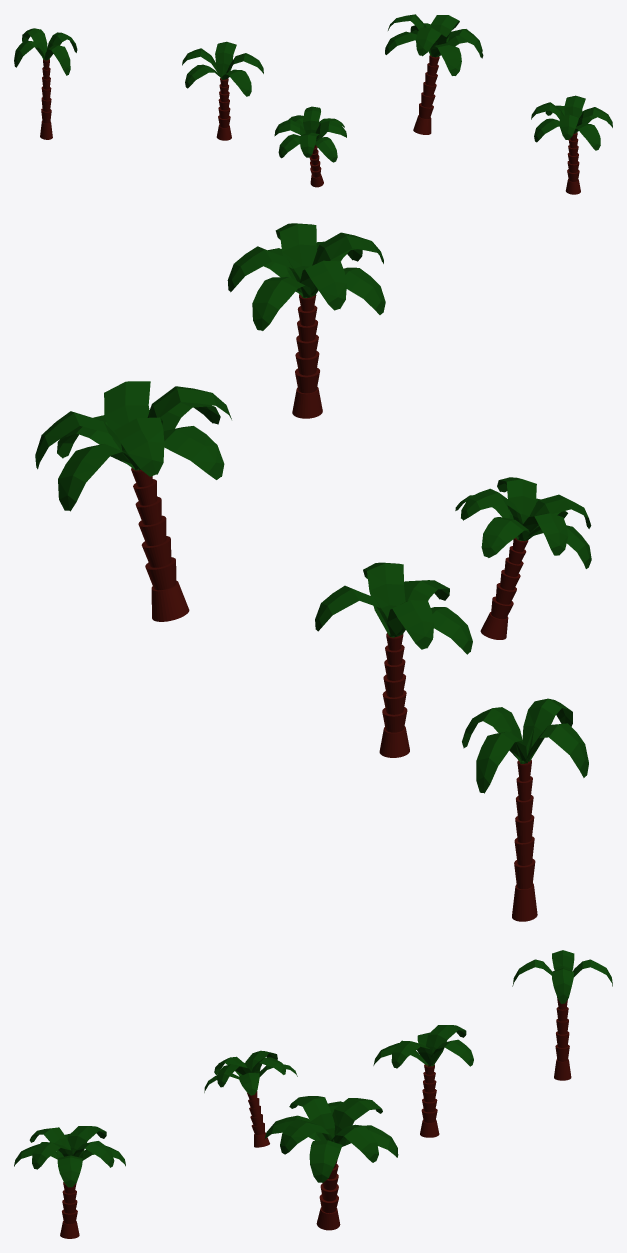
File: trees.obj
3 renders of one model, top to bottom at view 1: azimuth 30°, elevation 25°; view 2: azimuth 150°, elevation 25°; view 3: azimuth 270°, elevation 25°, orthographic. The views are drawn at different scales.
Parts seen in each view (by area): view 1: Plane.006, Plane.026, Plane.036, Plane.028, Plane.030, Plane.002, Plane.025, Plane.011, Plane.021, Plane.019, Plane.004, Plane.031 (+14 smaller); view 2: Plane.027, Plane.008, Plane.007, Plane.029, Plane.037, Plane.035, Plane.004, Plane.023, Plane.018, Plane.020, Plane.002, Plane.028 (+14 smaller); view 3: Plane.009, Plane.026, Plane.027, Plane.028, Plane.029, Plane.037, Plane.035, Plane.022, Plane.005, Plane.020, Plane.018, Plane.036 (+6 smaller).
Boxes of the visible parts, x1=… form: Plane.006: x1=431, y1=43, x2=461, y2=75; Plane.026: x1=416, y1=27, x2=446, y2=56; Plane.036: x1=215, y1=41, x2=236, y2=76; Plane.028: x1=430, y1=15, x2=459, y2=42; Plane.030: x1=222, y1=69, x2=251, y2=96; Plane.002: x1=45, y1=44, x2=70, y2=75; Plane.025: x1=573, y1=123, x2=600, y2=150; Plane.011: x1=303, y1=106, x2=320, y2=133; Plane.021: x1=559, y1=114, x2=582, y2=139; Plane.019: x1=564, y1=95, x2=585, y2=117; Plane.004: x1=22, y1=28, x2=47, y2=59; Plane.031: x1=185, y1=64, x2=223, y2=88; Plane.027: x1=114, y1=417, x2=164, y2=476; Plane.008: x1=58, y1=443, x2=131, y2=511; Plane.007: x1=139, y1=426, x2=224, y2=479; Plane.029: x1=104, y1=381, x2=150, y2=450; Plane.037: x1=363, y1=562, x2=405, y2=635; Plane.035: x1=387, y1=600, x2=434, y2=649; Plane.004: x1=476, y1=731, x2=527, y2=793; Plane.023: x1=252, y1=277, x2=311, y2=330; Plane.018: x1=275, y1=223, x2=317, y2=280; Plane.020: x1=300, y1=260, x2=346, y2=310; Plane.002: x1=522, y1=698, x2=572, y2=761; Plane.028: x1=35, y1=411, x2=121, y2=469; Plane.009: x1=309, y1=1140, x2=342, y2=1182; Plane.026: x1=289, y1=1096, x2=334, y2=1140; Plane.027: x1=332, y1=1098, x2=382, y2=1139; Plane.028: x1=331, y1=1124, x2=378, y2=1162; Plane.029: x1=280, y1=1119, x2=334, y2=1154; Plane.037: x1=391, y1=1040, x2=434, y2=1068; Plane.035: x1=425, y1=1025, x2=466, y2=1064; Plane.022: x1=57, y1=1155, x2=82, y2=1187; Plane.005: x1=551, y1=968, x2=574, y2=1003; Plane.020: x1=67, y1=1126, x2=106, y2=1156; Plane.018: x1=32, y1=1142, x2=73, y2=1169; Plane.036: x1=428, y1=1039, x2=473, y2=1066.
Bounding box in the file's own units: 18.69 × 5.49 × 21.41.
